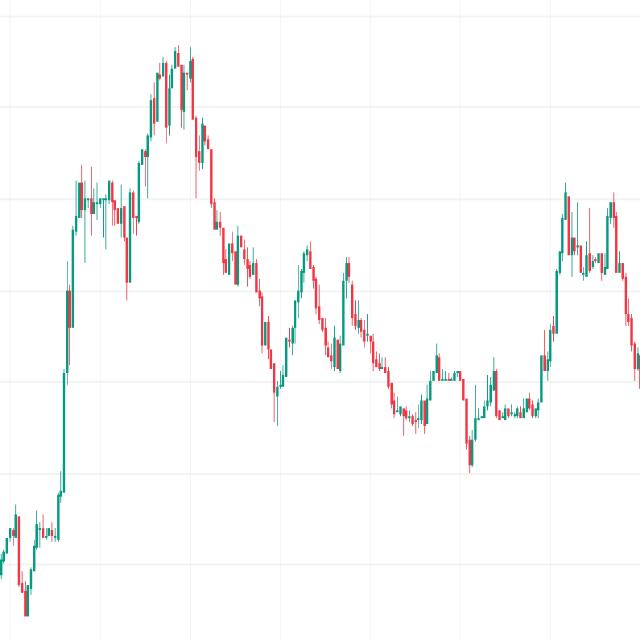Triple-Bottom: (143, 38, 200, 130)
